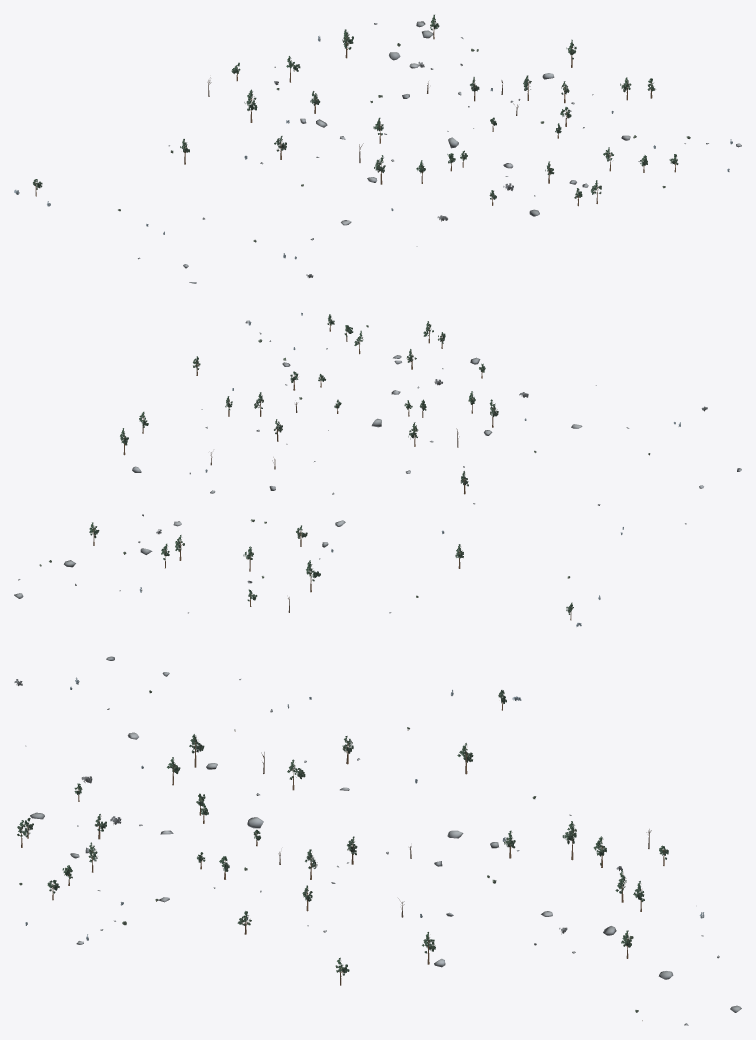
Rendered from frost_land_scatter_c19_11.glb.
3 renders of one model, top to bottom at view 1: azimuth 30°, elevation 25°; view 2: azimuth 150°, elevation 25°; view 3: azimuth 270°, elevation 25°, orthographic. The views are drawn at different scales.
Visible parts, largest first — view 1: frost_land_scatter_c19_11; view 2: frost_land_scatter_c19_11; view 3: frost_land_scatter_c19_11.
Part boxes in pixels (box(x1,y1,x2,y2)): frost_land_scatter_c19_11: box(14, 14, 741, 283); frost_land_scatter_c19_11: box(14, 312, 741, 626); frost_land_scatter_c19_11: box(14, 656, 741, 1025).
Bounding box in the file's own units: 254 × 48.2 × 252.
